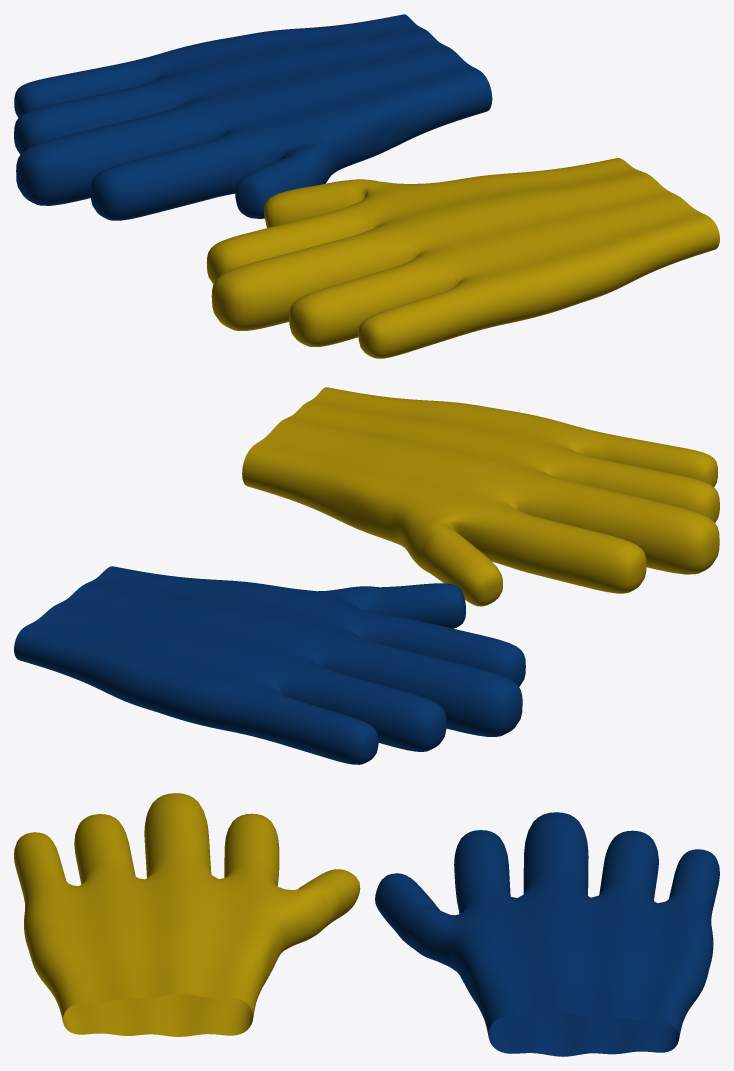
Rendered from Guantes.fbx.
3 renders of one model, top to bottom at view 1: azimuth 30°, elevation 25°; view 2: azimuth 150°, elevation 25°; view 3: azimuth 270°, elevation 25°, orthographic. The views are drawn at different scales.
Parts seen in each view (by area): view 1: MANO.001, MANO; view 2: MANO, MANO.001; view 3: MANO, MANO.001.
Boxes of the visible parts, box(x1,y1,x2,y2) form: MANO.001: box(206, 158, 719, 358); MANO: box(14, 14, 492, 220); MANO: box(14, 566, 525, 764); MANO.001: box(242, 387, 719, 606); MANO: box(375, 812, 719, 1056); MANO.001: box(14, 793, 360, 1036).
Bounding box in the file's own units: 1384 × 243 × 1979.
Materials: 2 (2 with a texture image).
